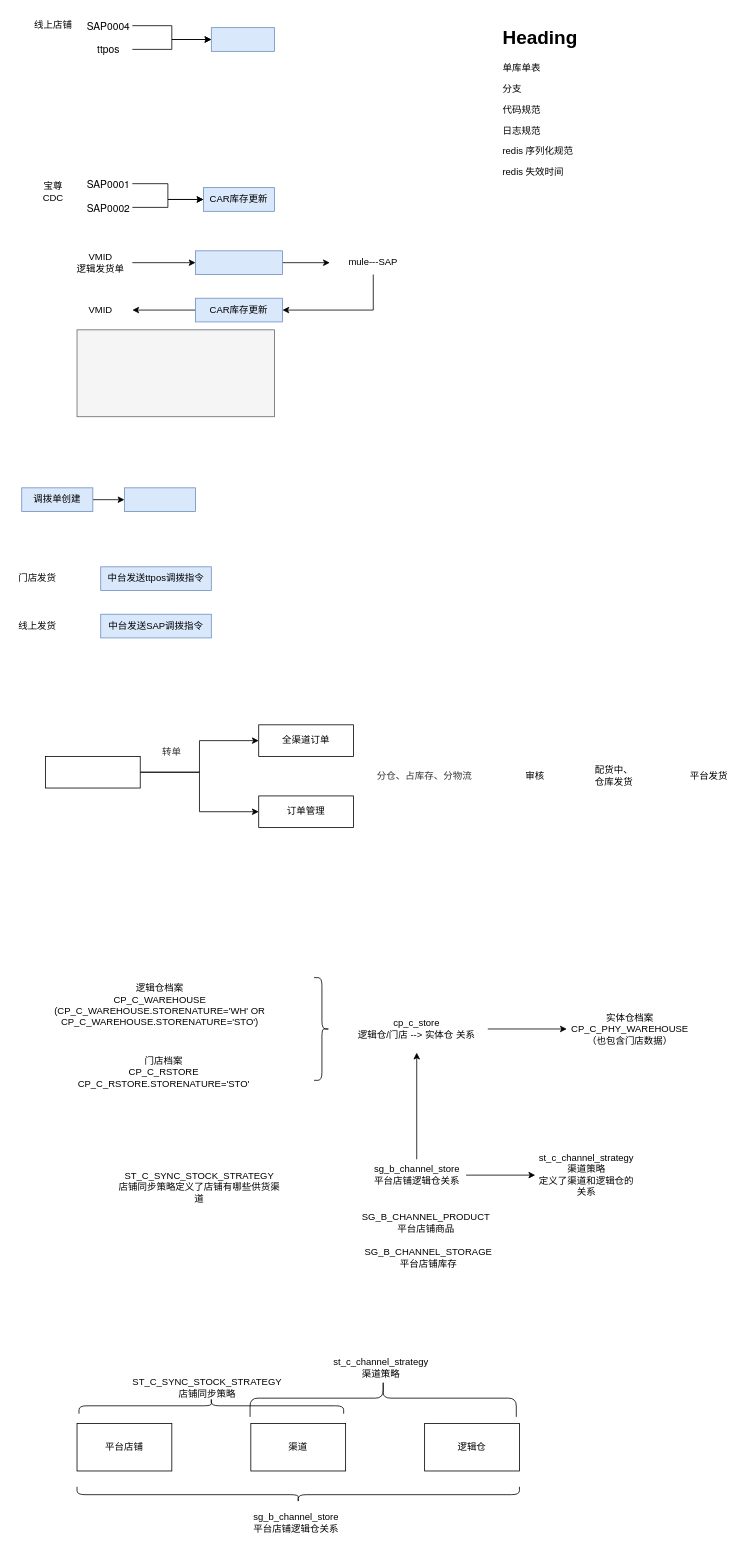
Some shapes in this 746 by 1552 pixel diagram are drawn without their labels. The shapes that lost their labels are listed below. From the top down, each one's box as (x1, y1, x2, y2) in pixels, then its label:
(211, 27, 275, 51): 库存变动接口
(195, 250, 282, 275): CAR库存流水变动
(76, 329, 275, 417): Ttpos o2o 下单的时候不管库存，下单成功后取消要减掉对应库存。（因为ttpos退的时候会增加一个库存，需要对冲） 下单成功前取消？
(124, 487, 196, 512): 预占调拨更新
(45, 756, 140, 788): o2o待确认订单
